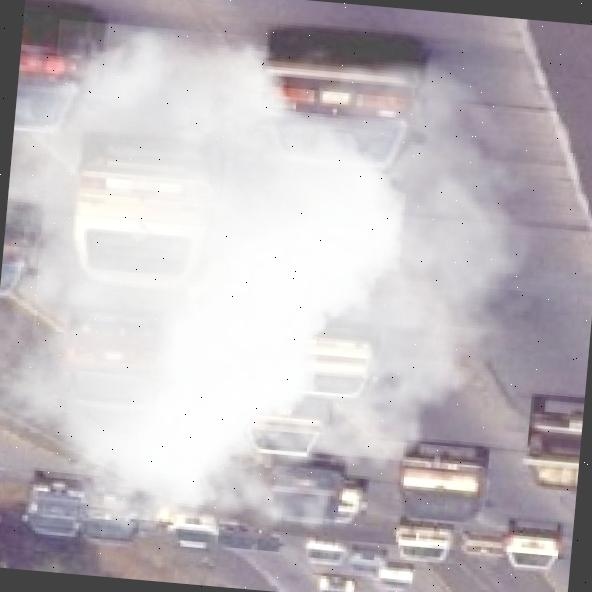smoke: (0, 15, 566, 584)
